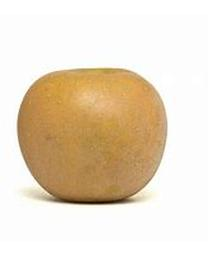apple: (15, 66, 167, 202)
